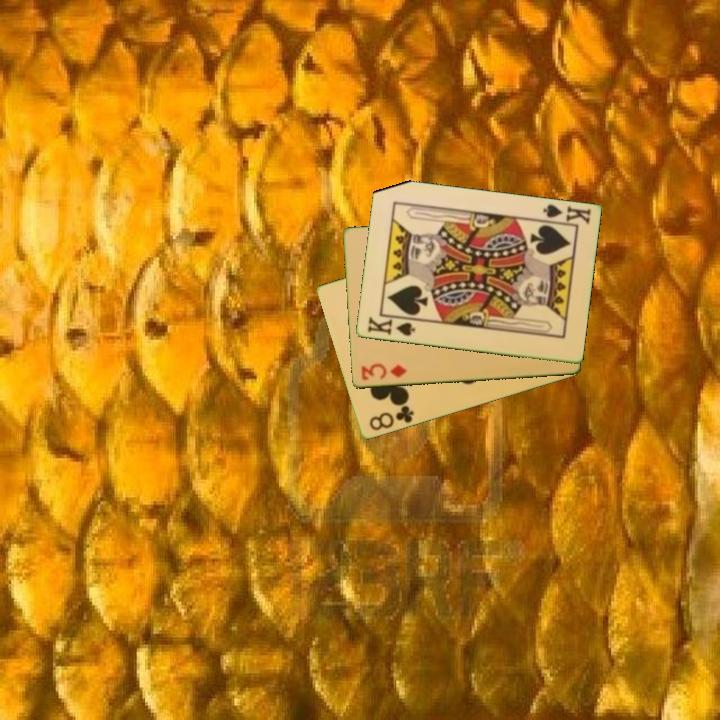3d: (358, 361, 410, 383)
8c: (365, 402, 417, 434)
Ks: (537, 201, 594, 228), (363, 313, 418, 339)
